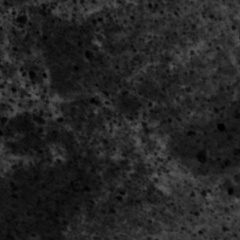Vegetation: (106, 169, 240, 240), (158, 5, 239, 92), (105, 124, 161, 164), (4, 74, 56, 114), (65, 1, 130, 23)
